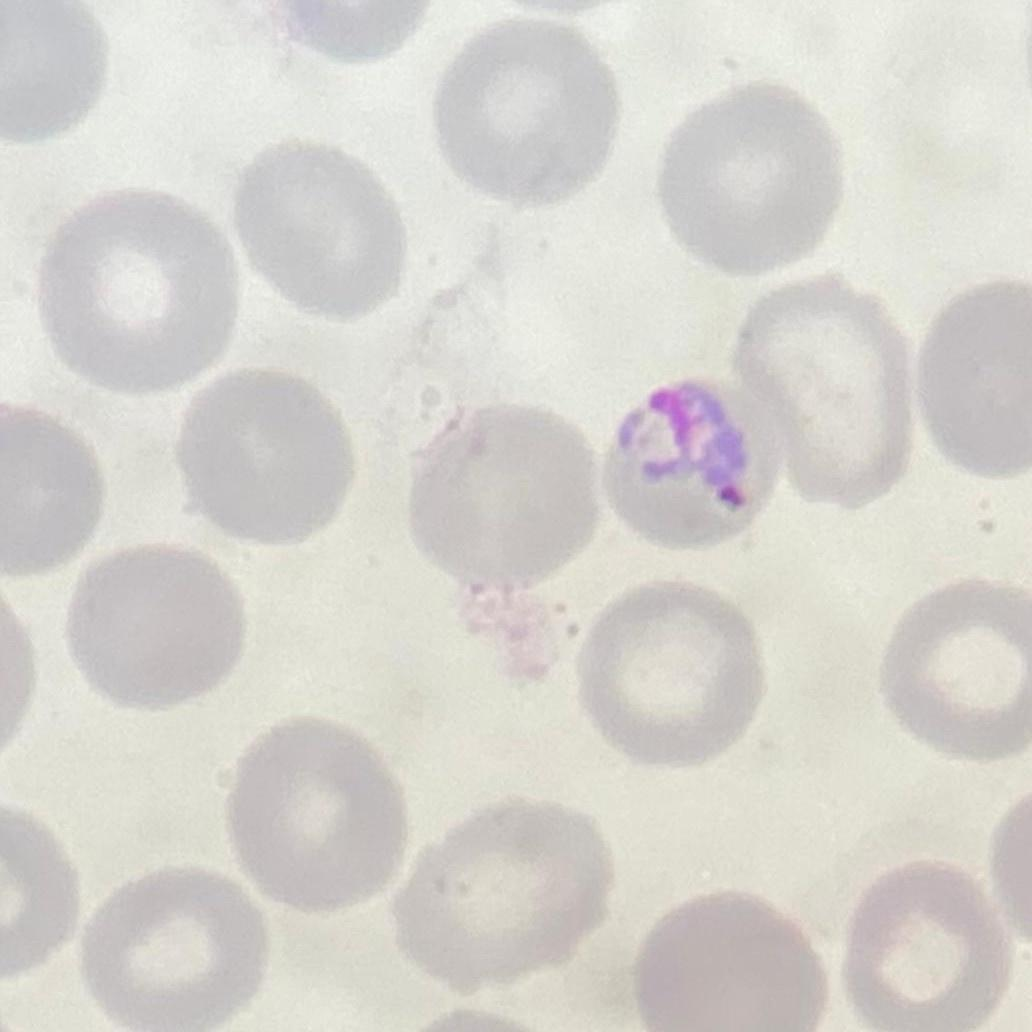Infected: (593, 373, 768, 559)
Uninfected: (395, 798, 607, 991), (735, 273, 910, 504), (40, 188, 238, 390), (578, 581, 760, 772), (232, 716, 402, 917), (425, 28, 607, 212), (175, 368, 347, 559), (665, 83, 832, 275), (845, 853, 1018, 1032), (420, 408, 597, 575), (70, 543, 247, 709), (237, 148, 407, 320), (878, 573, 1032, 761), (80, 873, 262, 1032), (638, 881, 823, 1032), (917, 278, 1032, 480), (0, 401, 102, 570)
